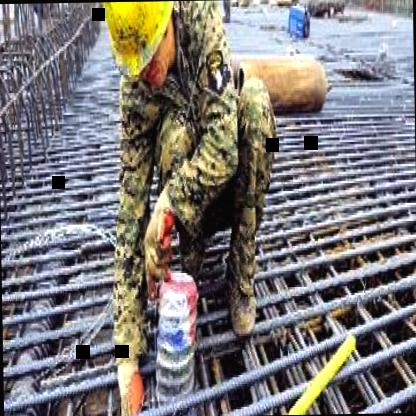helmet: (93, 1, 189, 102)
